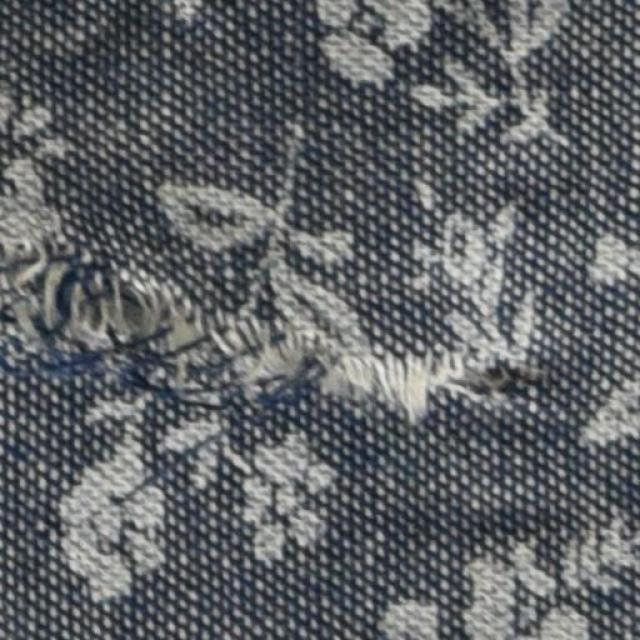Snag: (6, 235, 530, 438)
